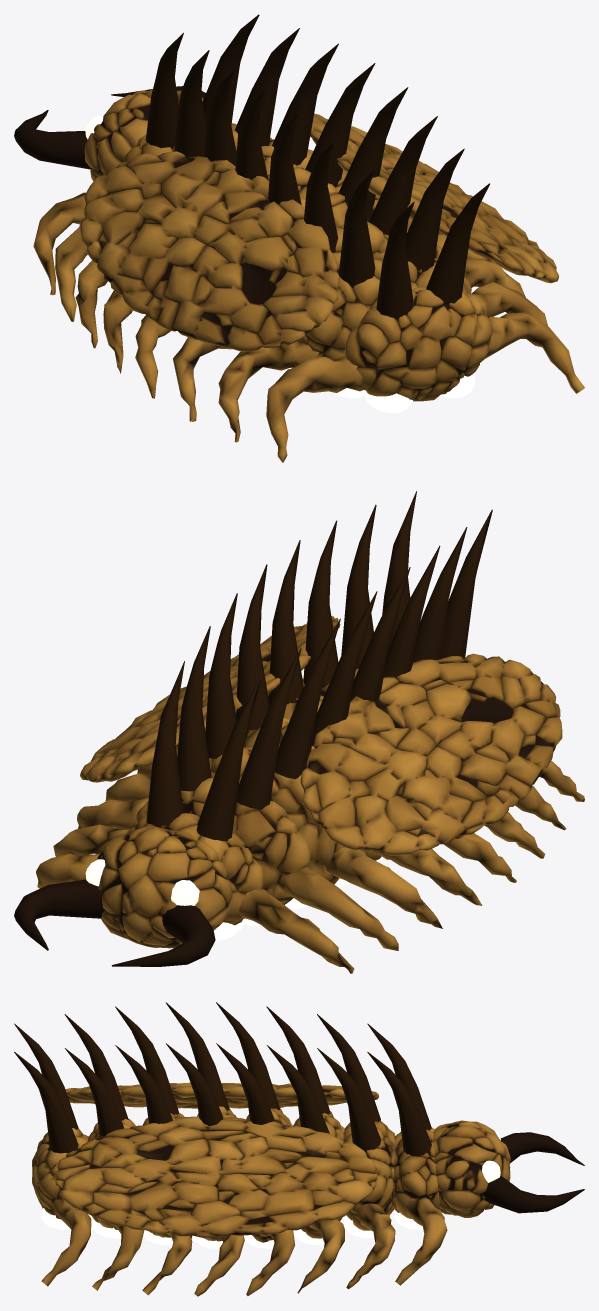
The model's file is kethrak_huge.glb.
The picture shows the model from 3 angles, top to bottom: view 1: azimuth 30°, elevation 25°; view 2: azimuth 150°, elevation 25°; view 3: azimuth 270°, elevation 25°; orthographic projection. The views are drawn at different scales.
Parts seen in each view (by area): view 1: kethrak_huge.001; view 2: kethrak_huge.001; view 3: kethrak_huge.001.
Part boxes in pixels (x1=…): kethrak_huge.001: x1=14, y1=14, x2=584, y2=462; kethrak_huge.001: x1=14, y1=491, x2=584, y2=973; kethrak_huge.001: x1=14, y1=1002, x2=584, y2=1296.
Size of the model in its own units: 5.7 by 4.06 by 10.
